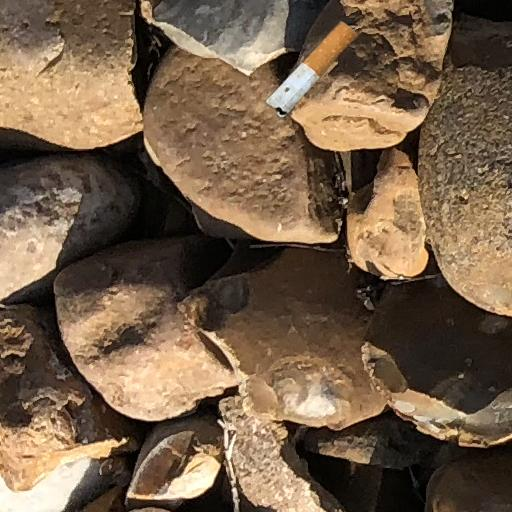smoke: (267, 22, 356, 117)
